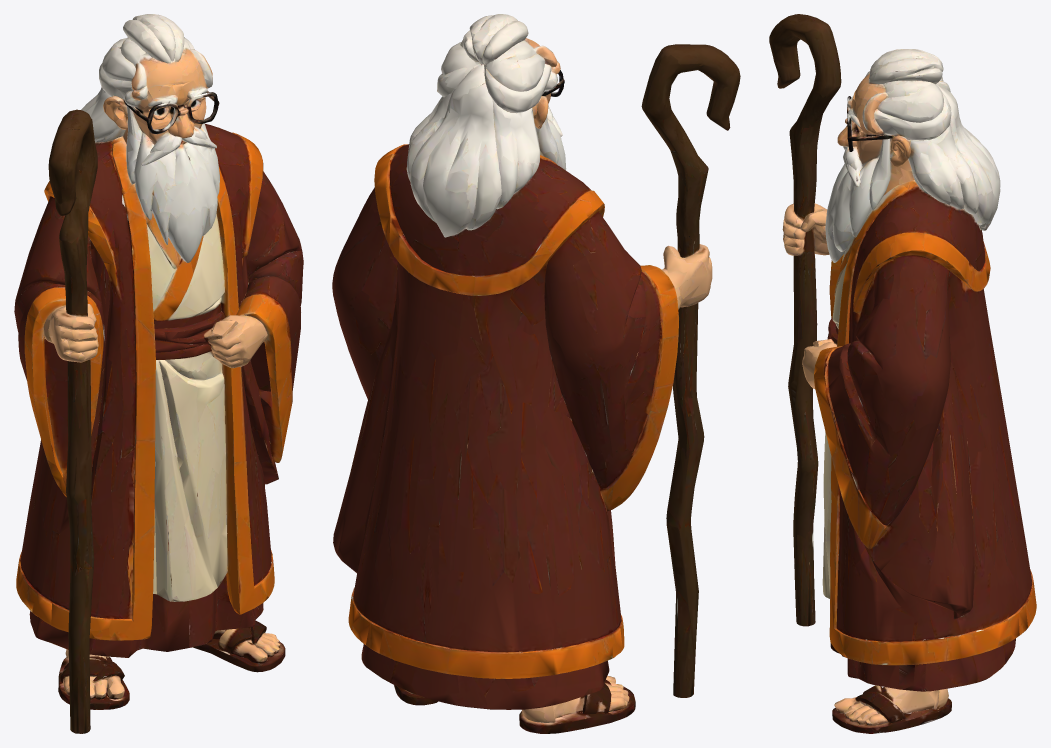
The model's file is upm_muprjpz3pm.glb.
3 views of the same model, side by side, from view 1: azimuth 30°, elevation 25°; view 2: azimuth 150°, elevation 25°; view 3: azimuth 270°, elevation 25° (orthographic). The views are drawn at different scales.
Size of the model in its own units: 0.9593 by 1.9 by 0.7312.
Materials: 1 (1 with a texture image).
